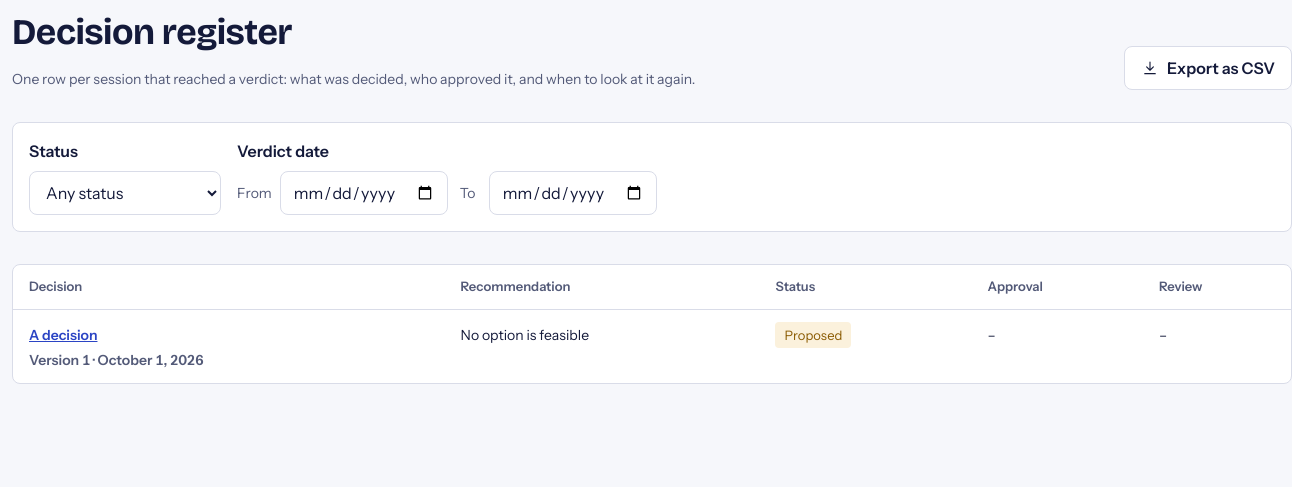
Scenario: the decision register › says when no decision matches, and offers to clear the filters
This screenshot has width=1292, height=487.
Check: the link "A decision" is shown, box left=29, top=326, right=98, bottom=344
Step 1. Select "Rejected" in the dropdown labelled "Status" → (125,193), box left=29, top=171, right=221, bottom=215
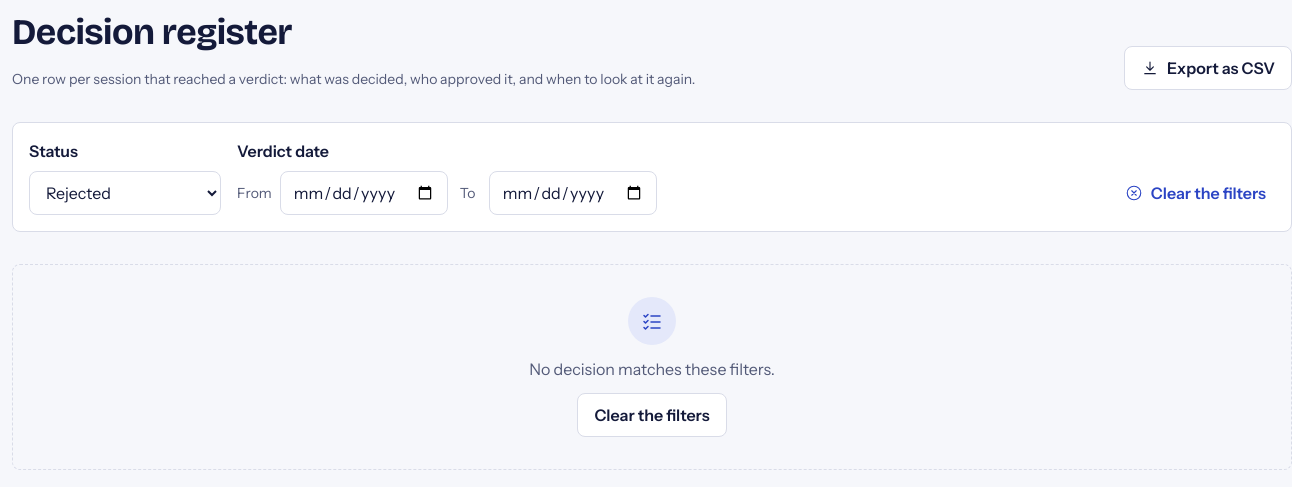
Check: the text "No decision matches these filters." is shown, box left=529, top=357, right=775, bottom=381
Check: the number of buttons "Clear the filters" is 2
Step 2. Click the button "Clear the filters" below "No decision matches these filters." → (652,415), box left=577, top=393, right=727, bottom=437
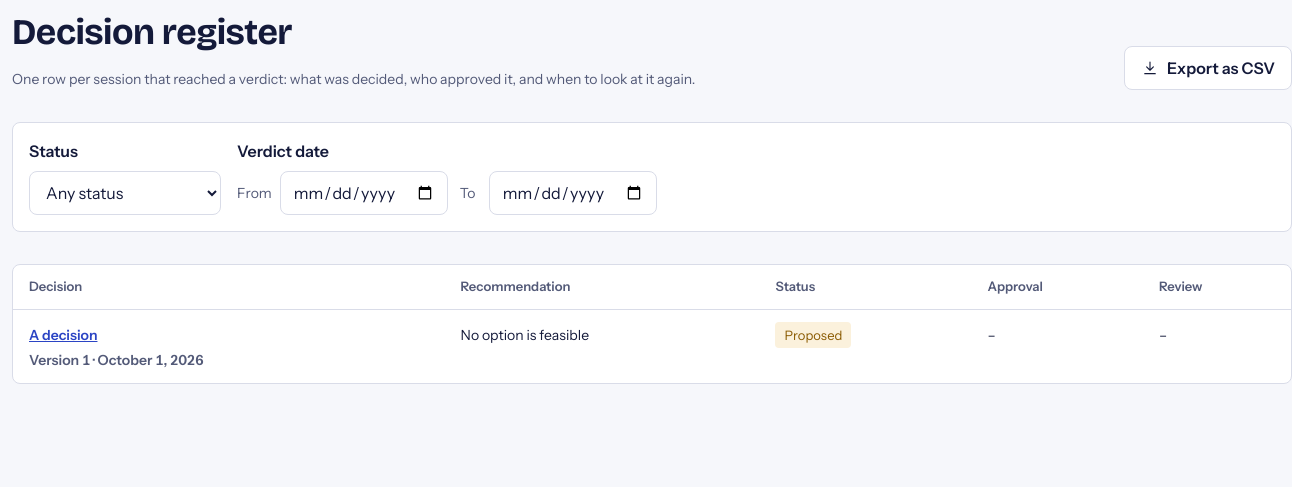
Check: the link "A decision" is shown, box left=29, top=326, right=98, bottom=344
